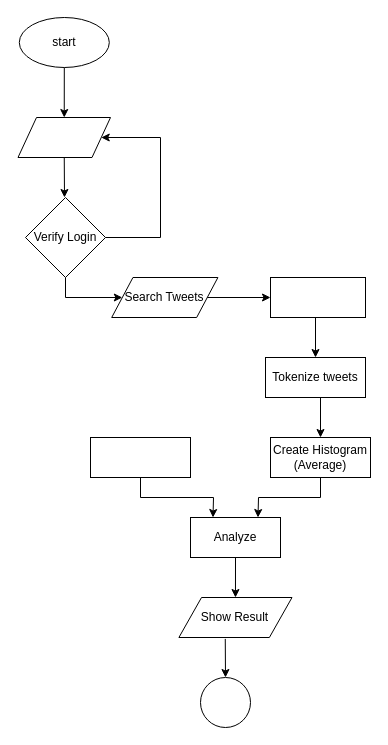
This 388x745 diagram has some shape labels left out. Here are the shapes that lost their labels. From the top down, the box of each, then its label:
(17, 116, 110, 158): Login
(270, 276, 366, 318): Ecxtract Tweets
(90, 436, 190, 478): Dataset
(200, 676, 250, 728): End
